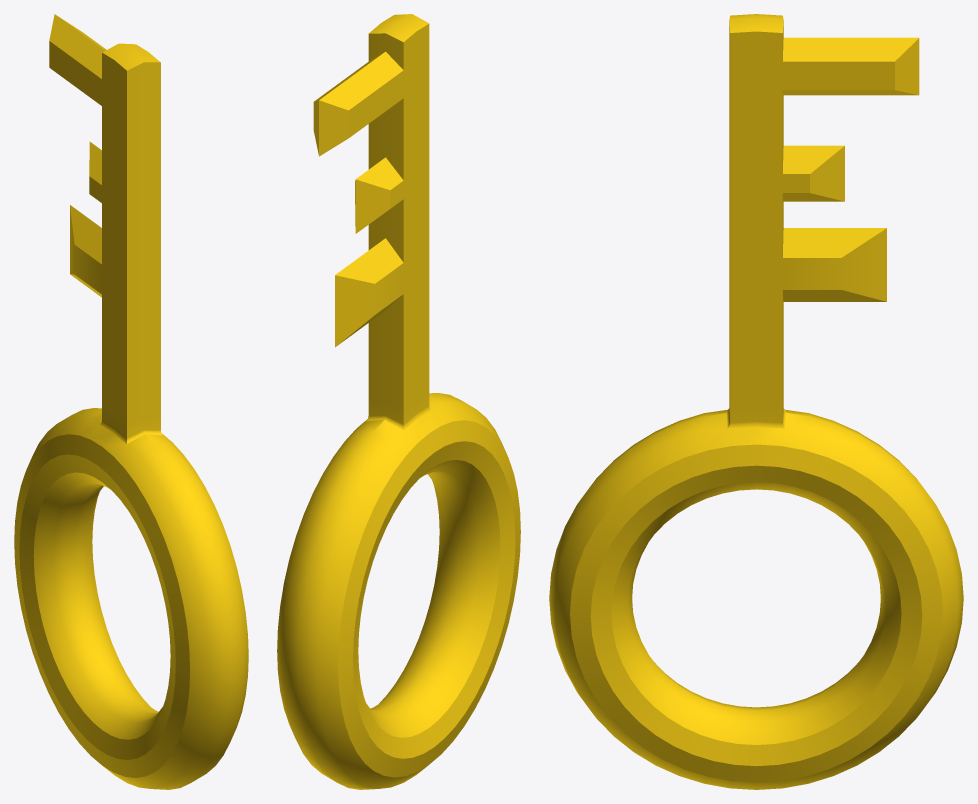
The model's file is Blue Key.fbx.
The picture shows the model from 3 angles, left to right: view 1: azimuth 30°, elevation 25°; view 2: azimuth 150°, elevation 25°; view 3: azimuth 270°, elevation 25°; orthographic projection. The views are drawn at different scales.
Visible parts, largest first — view 1: Key; view 2: Key; view 3: Key.
Boxes of the visible parts, <box> form: Key: <box>14,14,248,789</box>; Key: <box>277,14,520,789</box>; Key: <box>549,14,963,789</box>.
Size of the model in its own units: 50 by 511 by 250.
